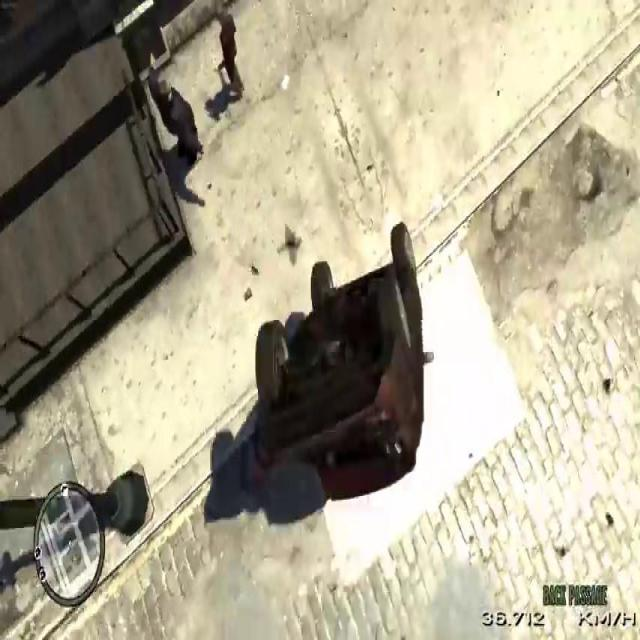severe: (237, 210, 428, 518)
